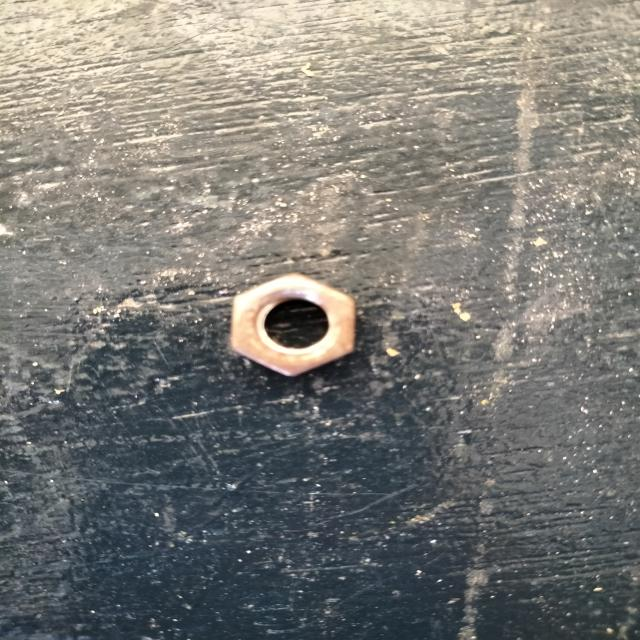nuts: (230, 272, 356, 376)
